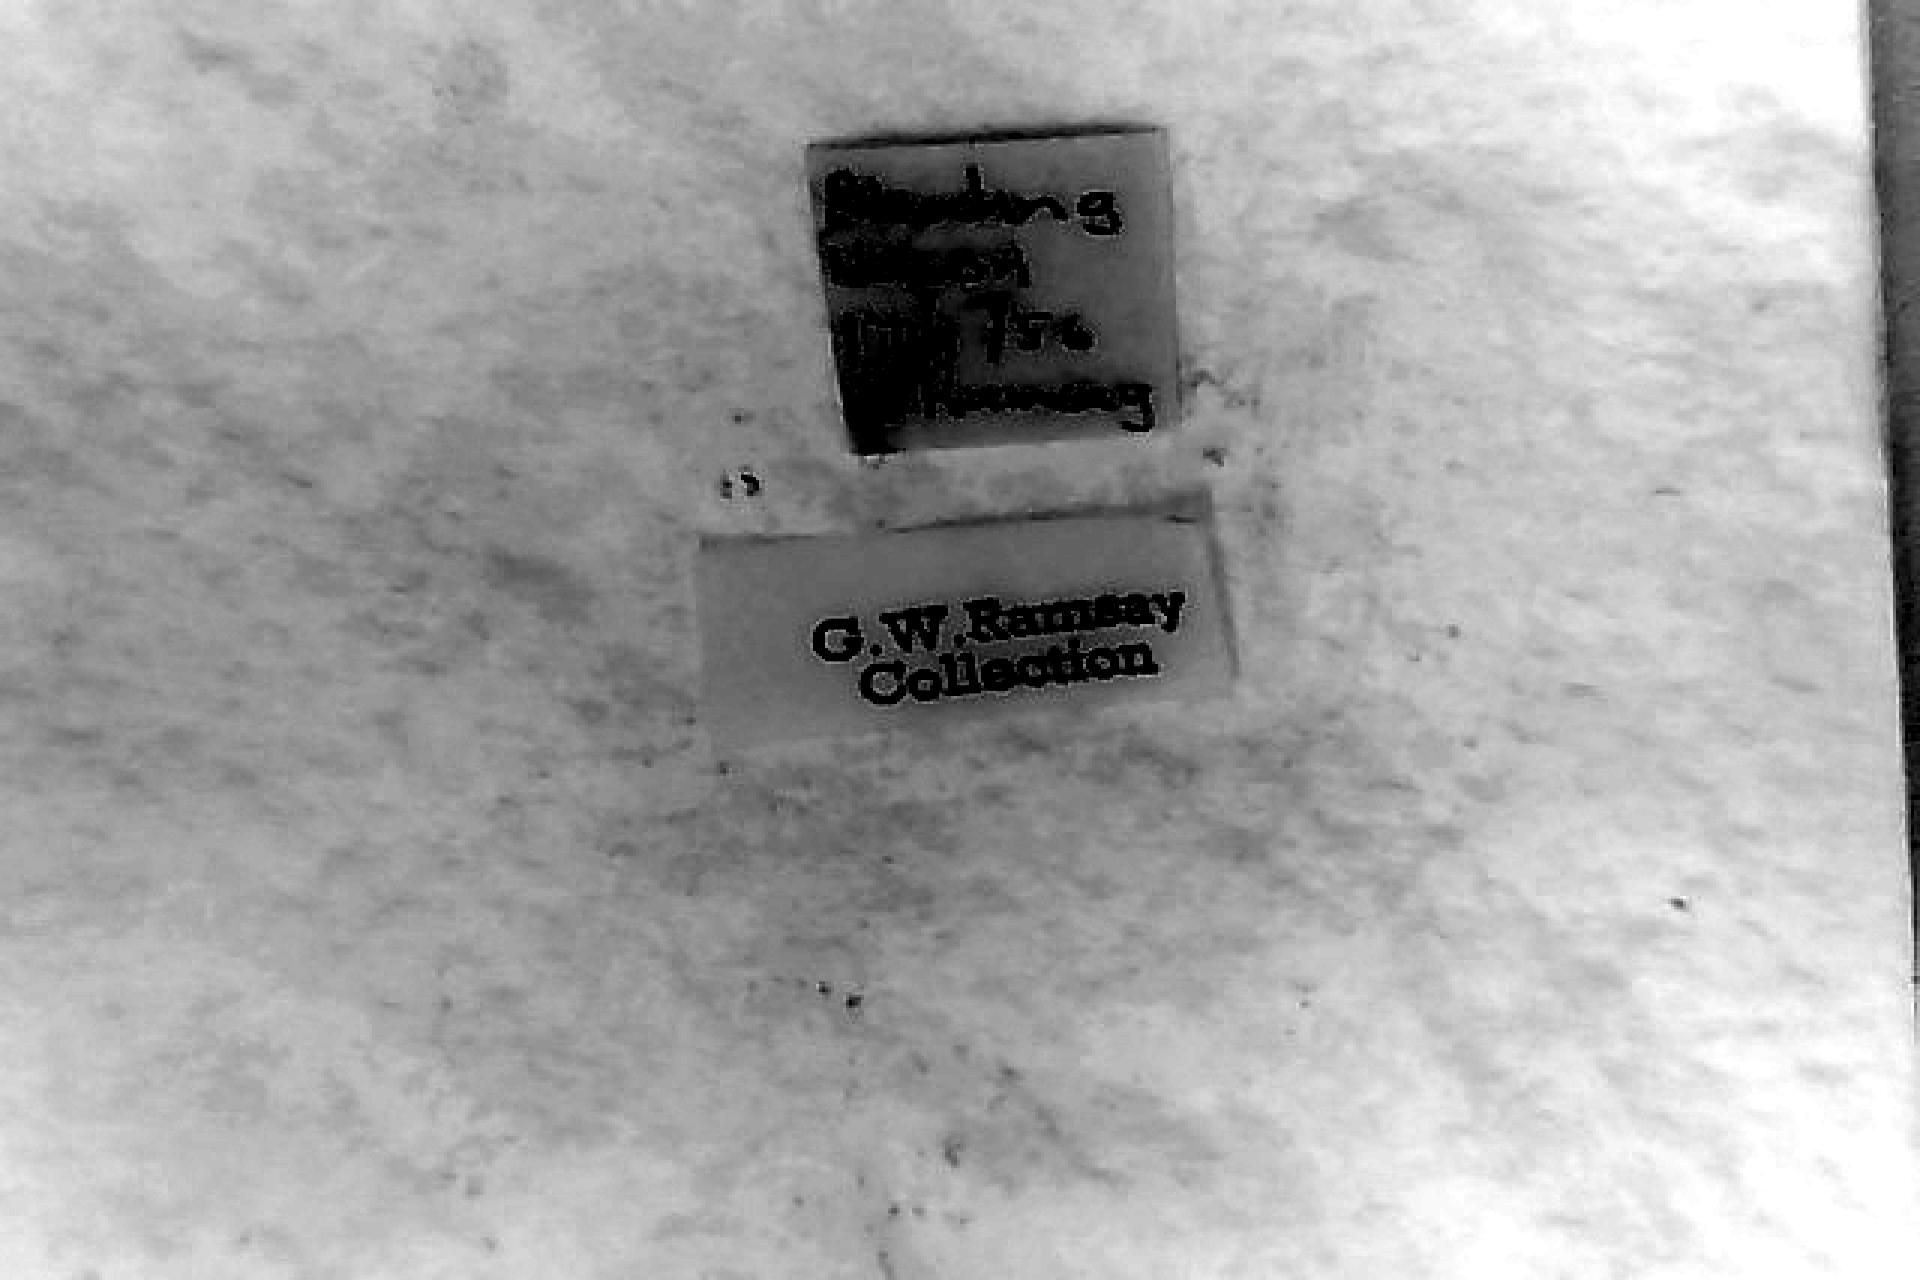hand_label: (806, 130, 1178, 453)
typed_label: (698, 512, 1234, 745)
